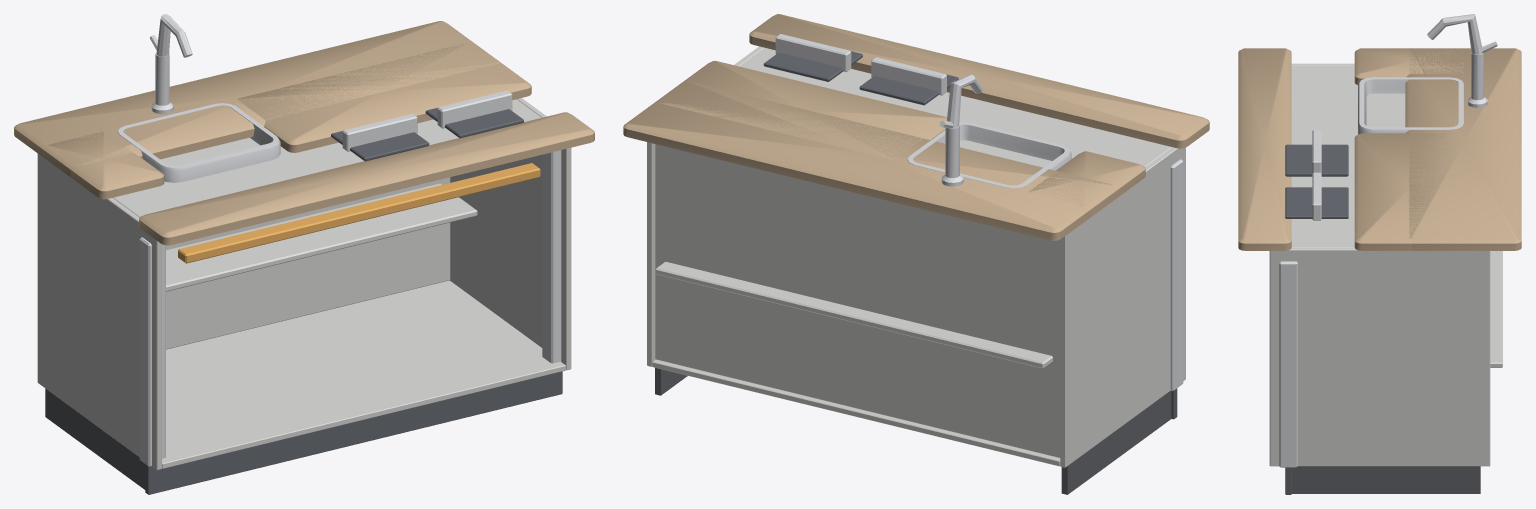
Rendered from office-lobby-and-facilities-tea-point-island-c5f0206a__26214.glb.
The picture shows the model from 3 angles, left to right: view 1: azimuth 30°, elevation 25°; view 2: azimuth 150°, elevation 25°; view 3: azimuth 270°, elevation 25°; orthographic projection. The views are drawn at different scales.
Parts seen in each view (by area): view 1: tea-point-island; view 2: tea-point-island; view 3: tea-point-island.
Boxes of the visible parts, box(x1,y1,x2,y2) form: tea-point-island: box(14, 14, 594, 494); tea-point-island: box(623, 14, 1209, 494); tea-point-island: box(1238, 14, 1521, 494).
Bounding box in the file's own units: 1.46 × 1.22 × 0.9.
